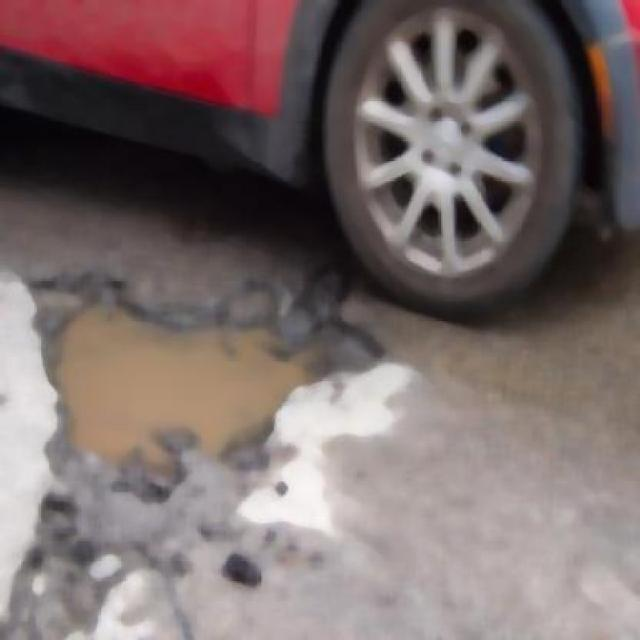Pothole: (54, 270, 337, 465)
